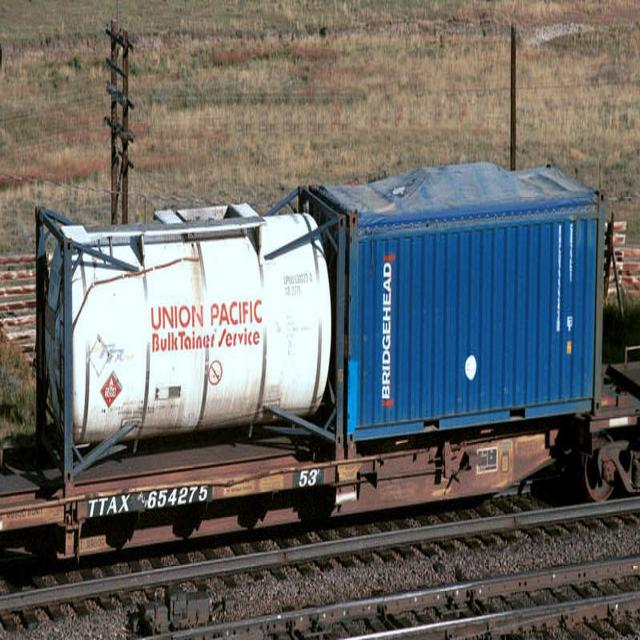container: (302, 160, 594, 450)
flatcar: (0, 388, 640, 580)
tank: (31, 181, 346, 496)
